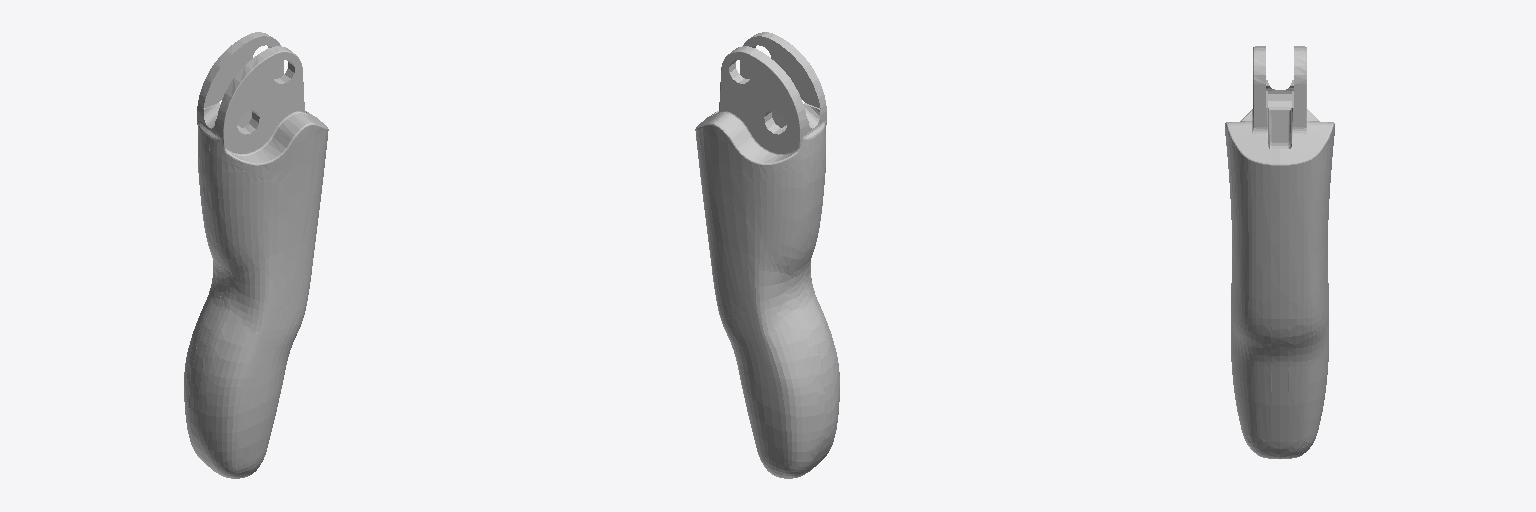
The picture shows the model from 3 angles: view 1: azimuth 30°, elevation 25°; view 2: azimuth 150°, elevation 25°; view 3: azimuth 270°, elevation 25°; orthographic projection.
Visible parts, largest first — view 1: Link20_L; view 2: Link20_L; view 3: Link20_L.
Part boxes in pixels (x1,y1,x2,y2): Link20_L: (184, 32, 328, 478); Link20_L: (695, 32, 839, 478); Link20_L: (1225, 46, 1334, 458).
Size of the model in its own units: 0.0165 by 0.0532 by 0.0126.